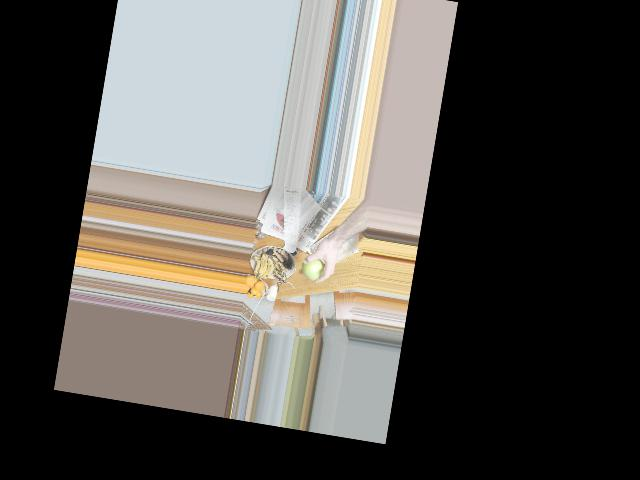apple: (299, 255, 326, 281)
